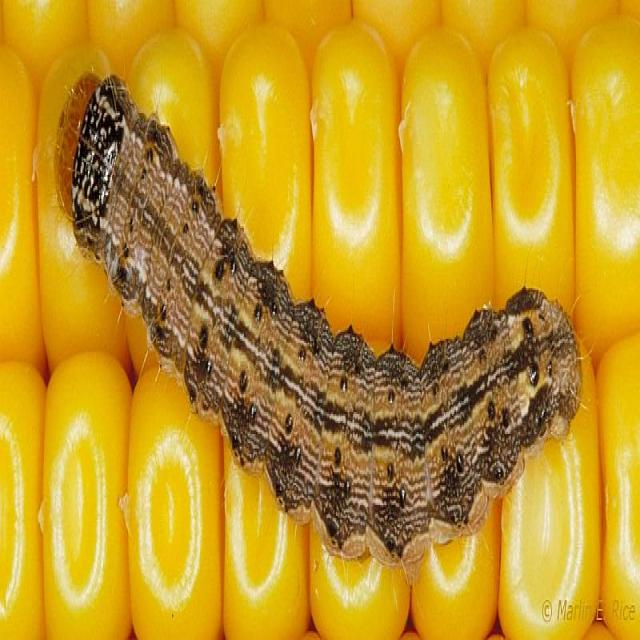Corn-earworm: (56, 62, 584, 555)
